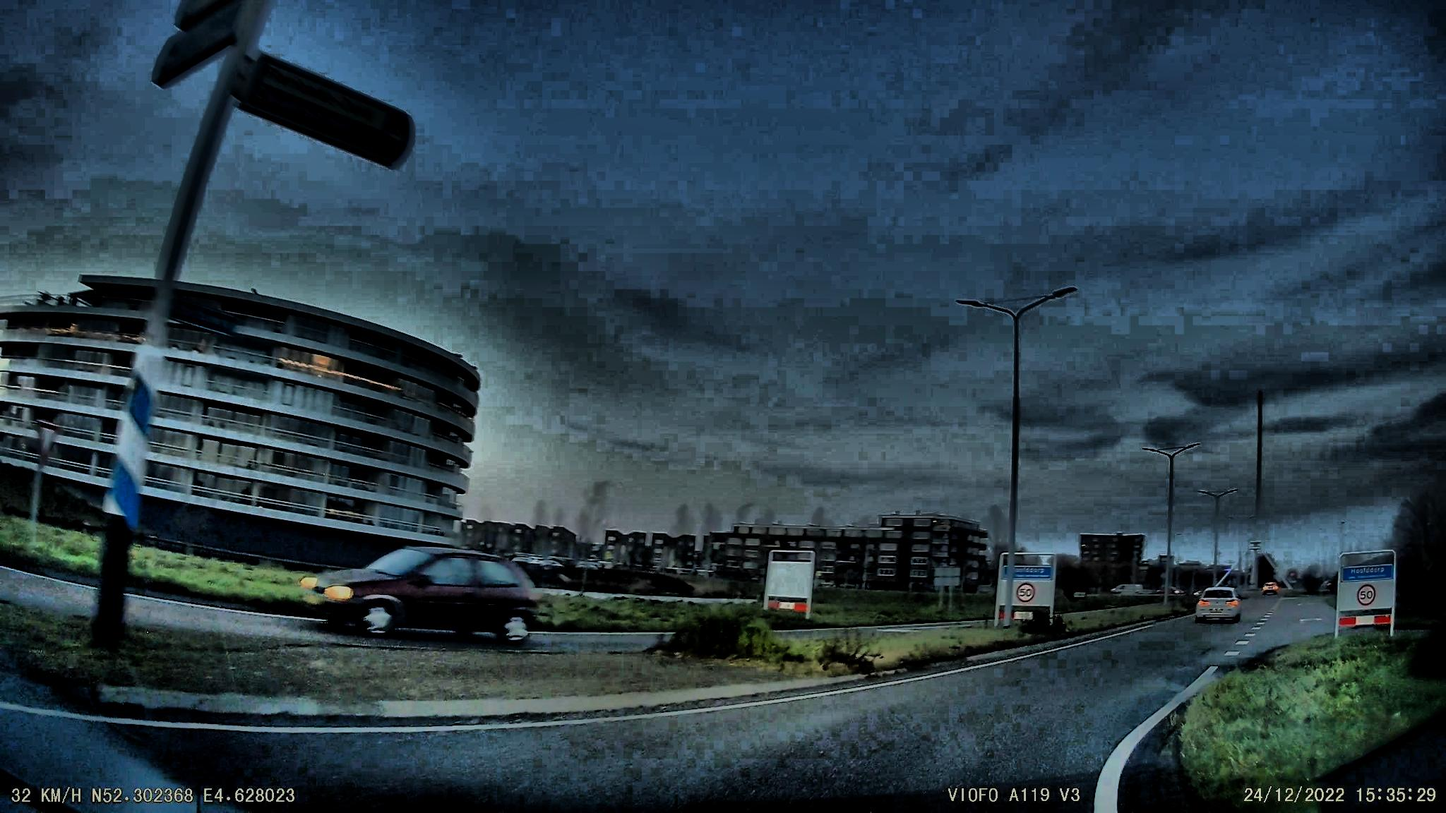Roads: (0, 595, 1331, 813)
